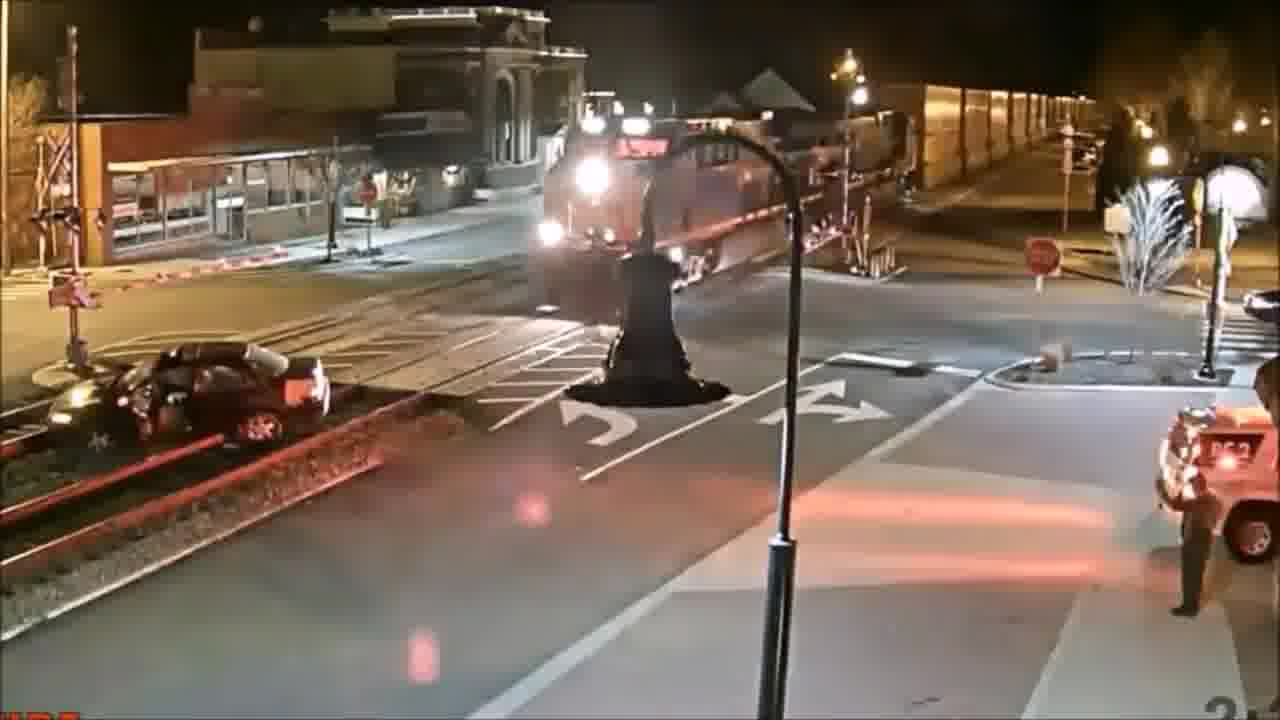crossing railway track: (42, 333, 329, 466)
